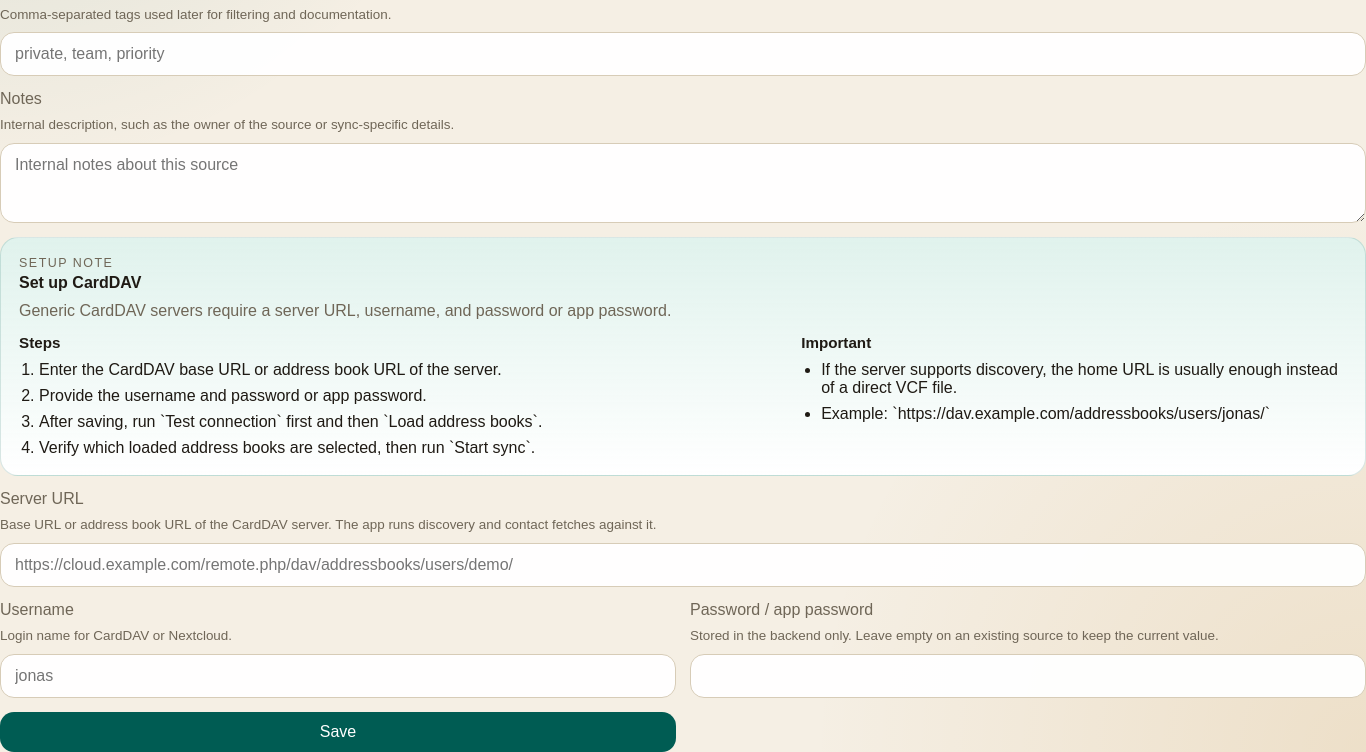
Test: shows inline validation errors before submitting an incomplete source
The width and height of the screenshot is (1366, 752).
(page scrolled)
Click the button "Save" at (338, 732), box [0,712,676,751]
(page scrolled)
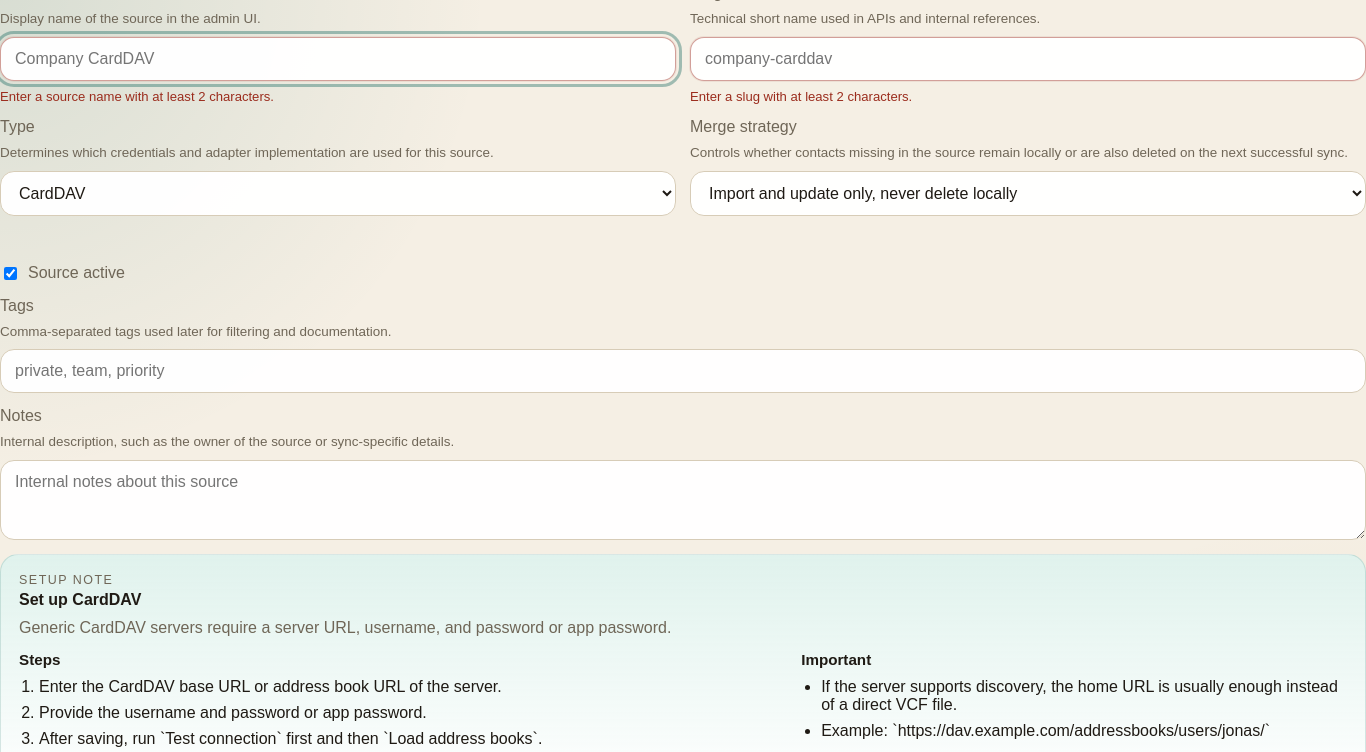
expect the text "Enter a source name with at least 2 characters." is shown: met, box [0,89,274,104]
expect the text "Enter a slug with at least 2 characters." is shown: met, box [690,89,912,104]
